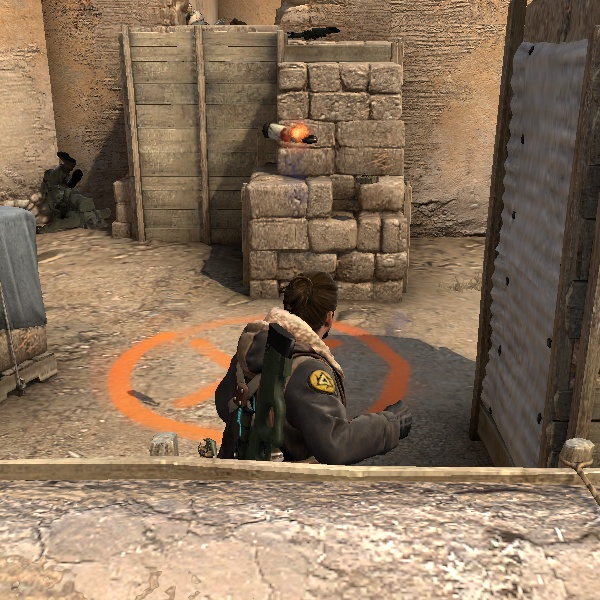ct_body: (35, 147, 94, 232)
